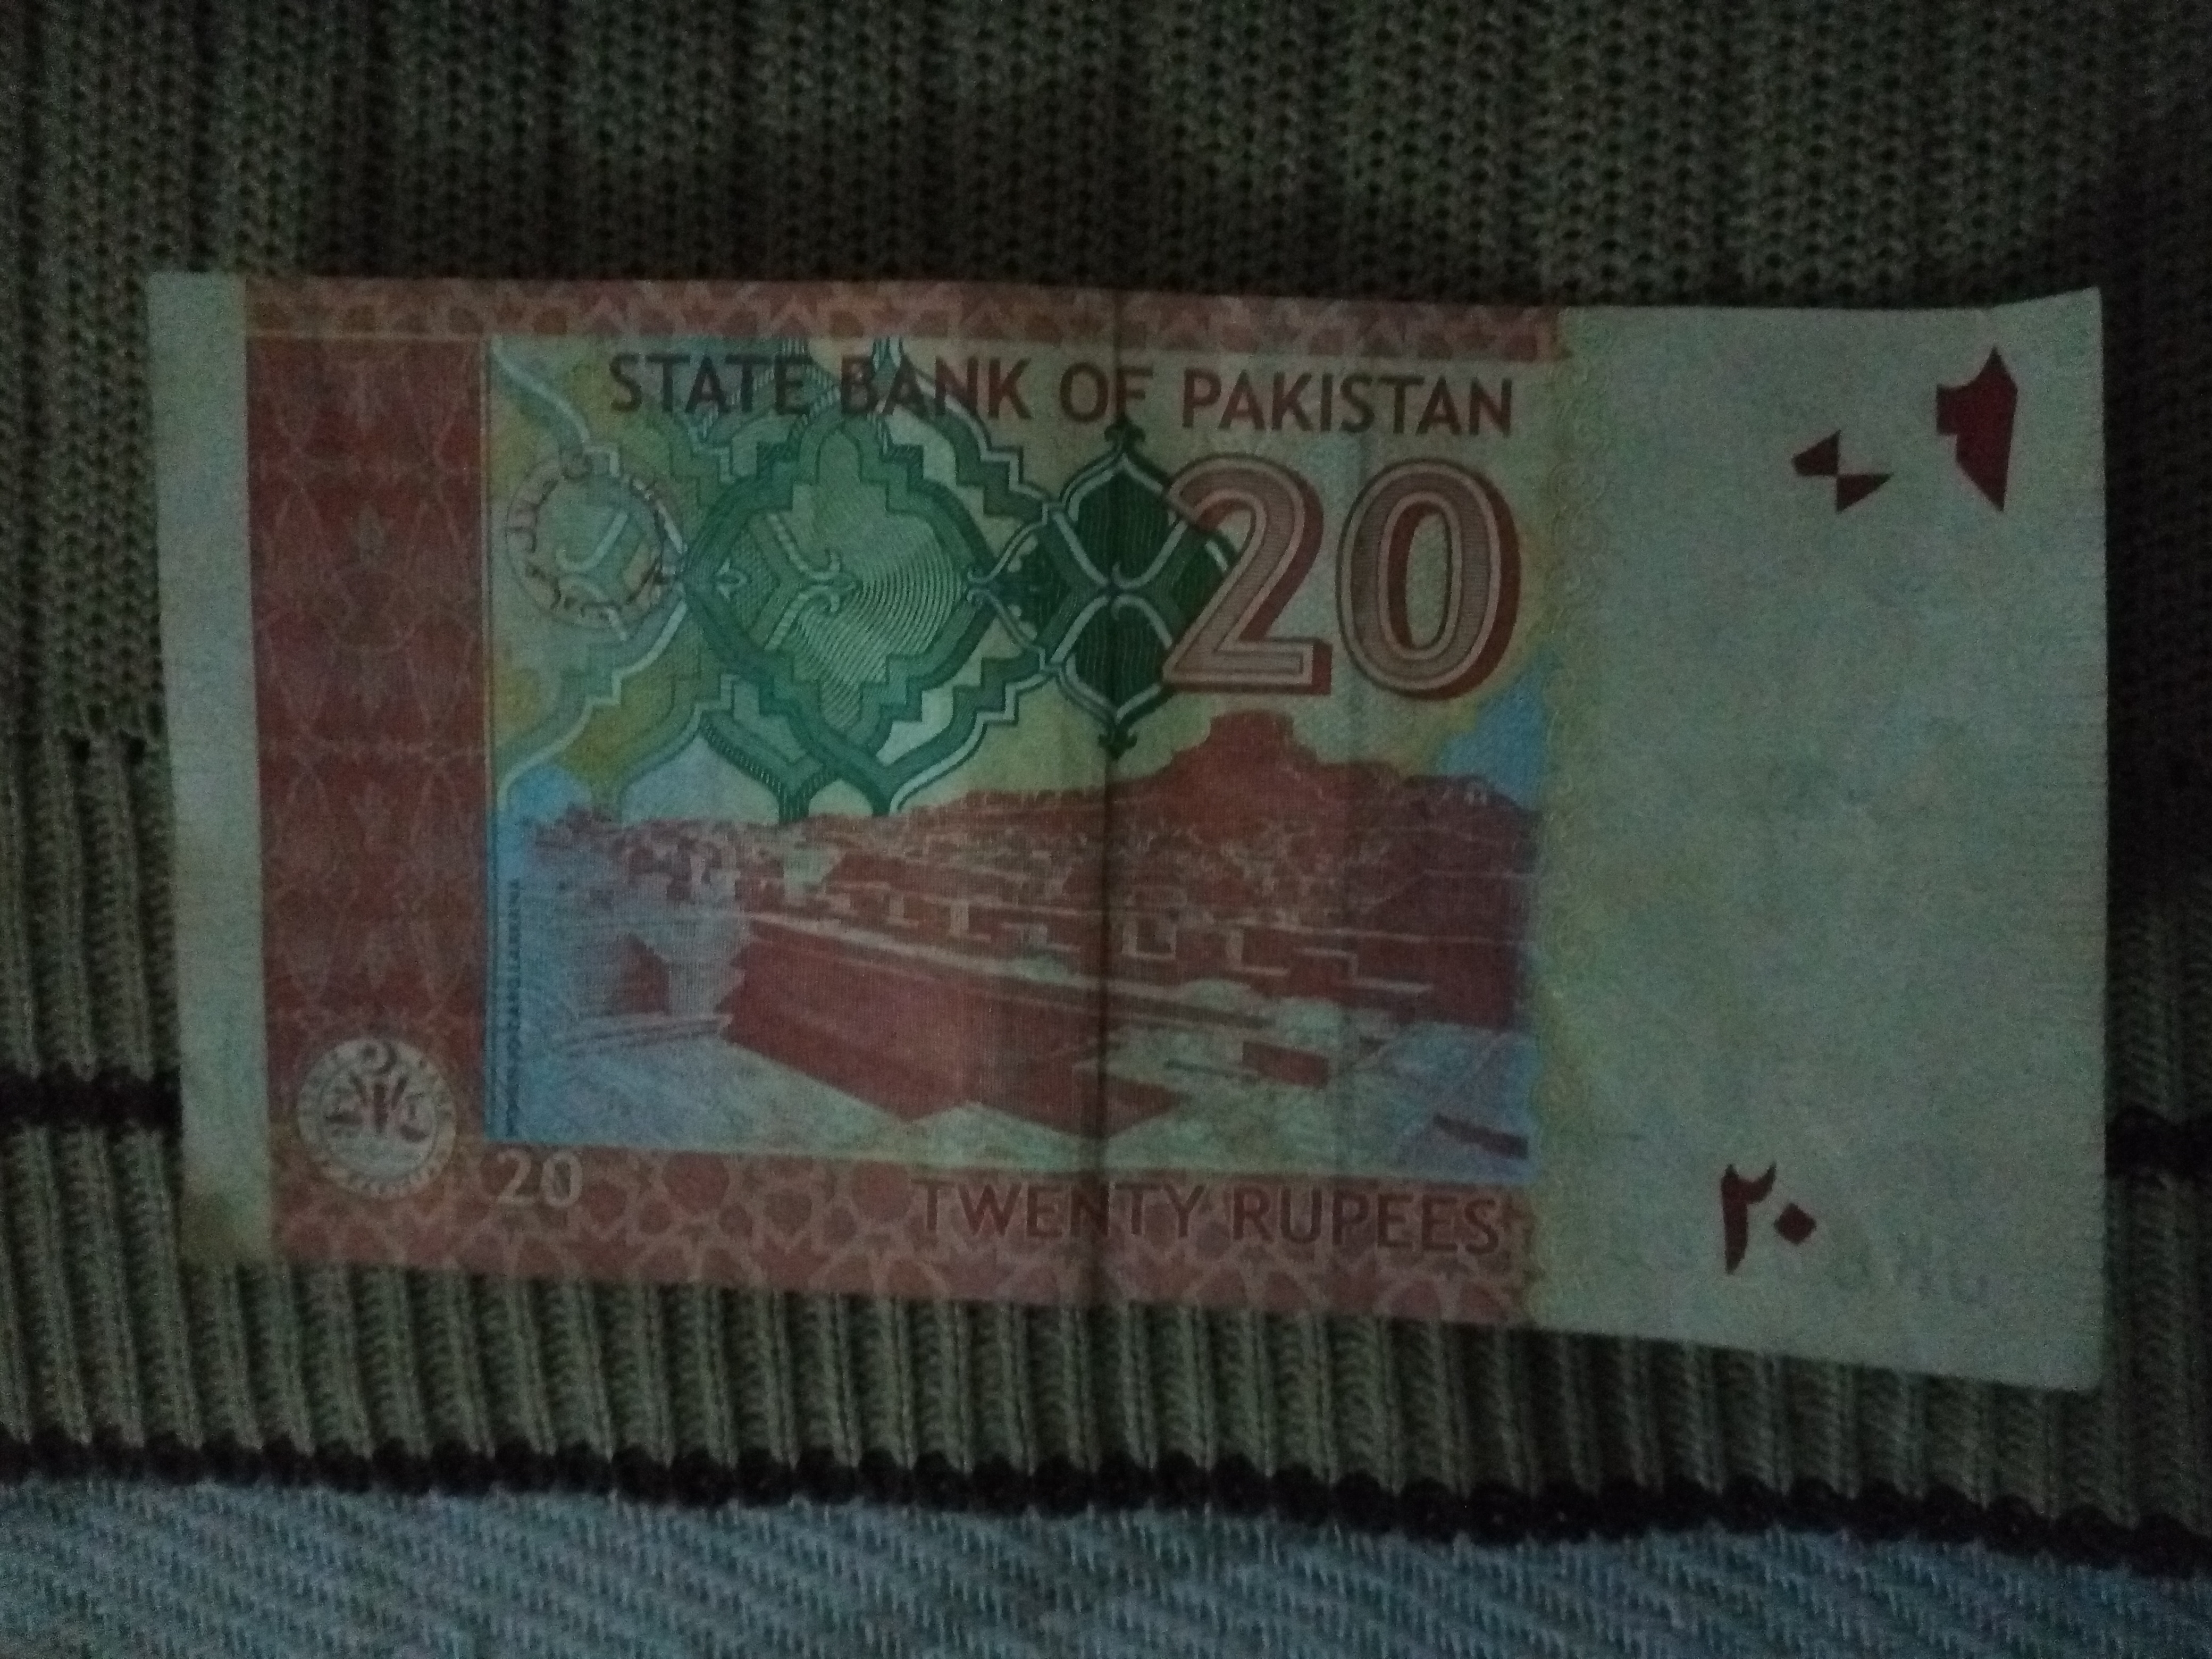20 rupee: (99, 237, 2134, 1466)
